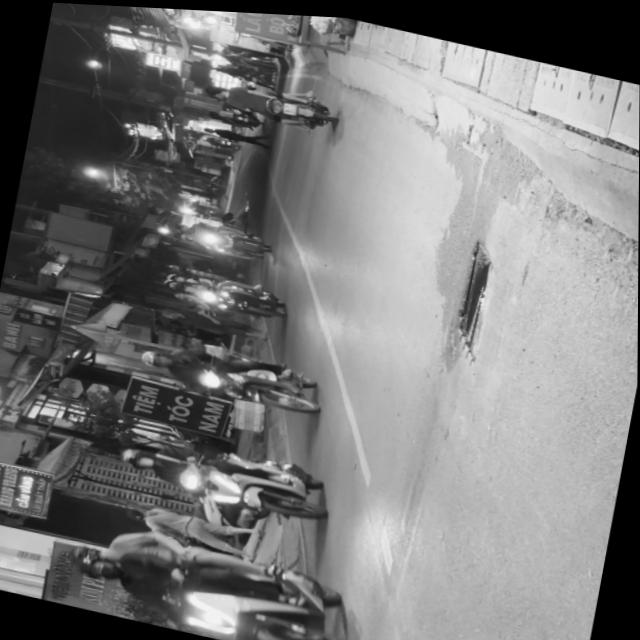helmet: (65, 544, 119, 580), (69, 548, 122, 584), (117, 445, 156, 470), (137, 347, 170, 369)
licenseplate: (56, 511, 362, 640), (111, 422, 333, 529), (132, 329, 324, 419)
